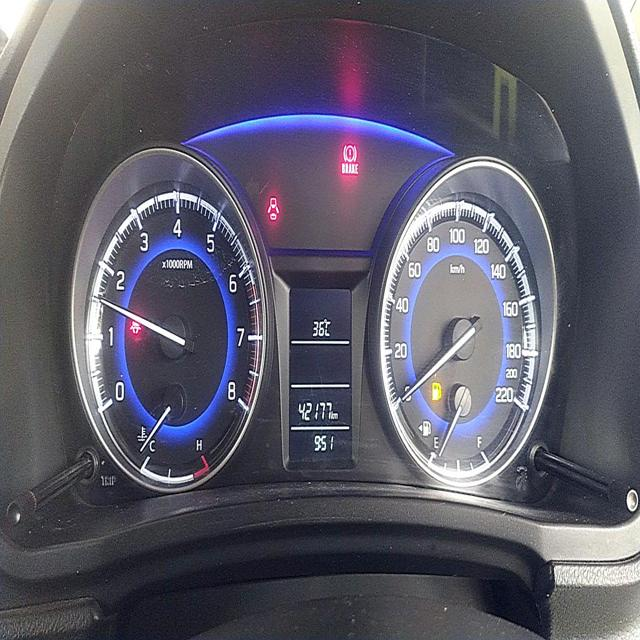odometer: (297, 400, 334, 423)
